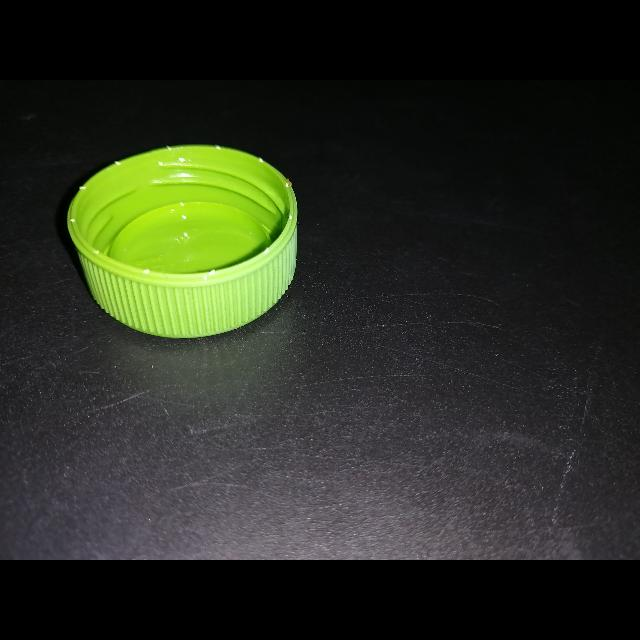plastic_bottle_cap: (68, 144, 300, 338)
